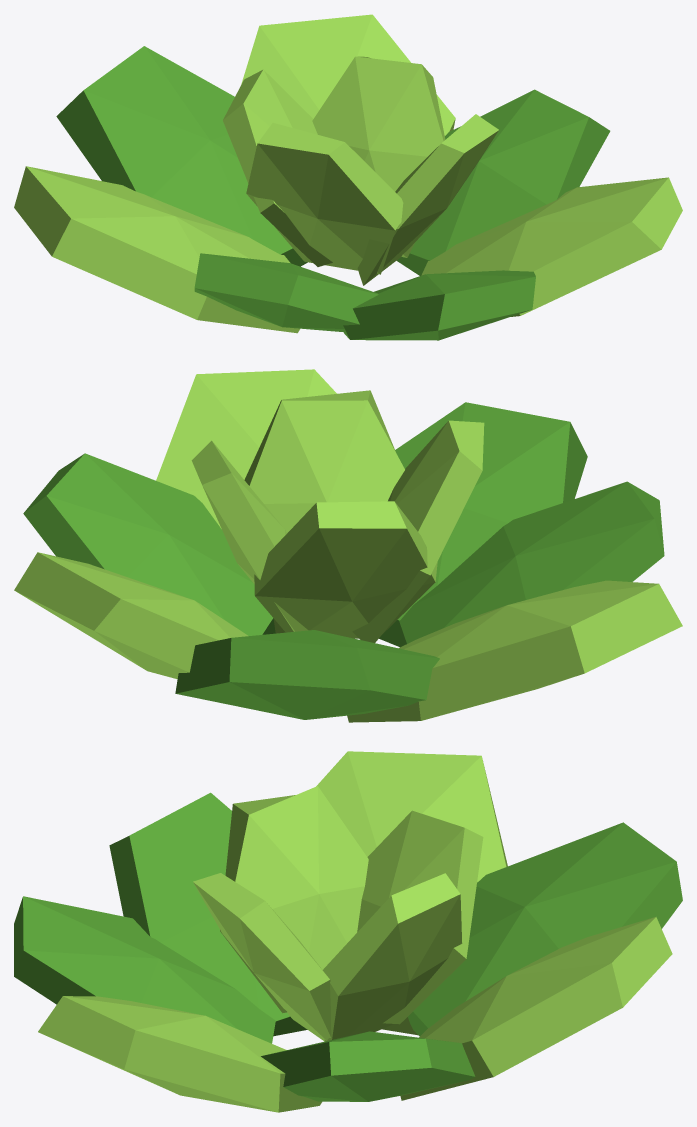
Rendered from lettuce_3.obj.
3 views of the same model, one above another, from view 1: azimuth 30°, elevation 25°; view 2: azimuth 150°, elevation 25°; view 3: azimuth 270°, elevation 25° (orthographic). The views are drawn at different scales.
Parts seen in each view (by area): view 1: plant; view 2: plant; view 3: plant.
Boxes of the visible parts, x1,y1,x2,y2 form: plant: [14, 14, 682, 340]; plant: [14, 369, 682, 722]; plant: [14, 751, 682, 1112].
Bounding box in the file's own units: 0.4389 × 0.1587 × 0.4206.
